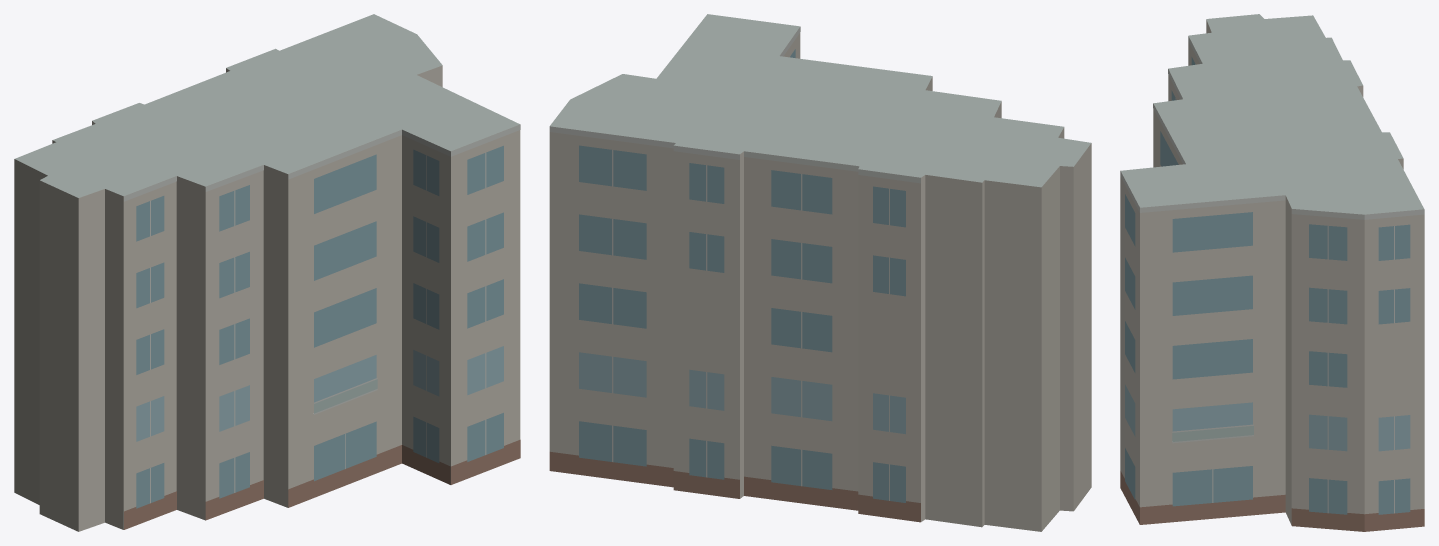
The model's file is survey-upis-32631726.glb.
3 renders of one model, left to right at view 1: azimuth 30°, elevation 25°; view 2: azimuth 150°, elevation 25°; view 3: azimuth 270°, elevation 25°, orthographic. The views are drawn at different scales.
Parts seen in each view (by area): view 1: survey-upis-32631726.tmp; view 2: survey-upis-32631726.tmp; view 3: survey-upis-32631726.tmp.
Boxes of the visible parts, left/top/right/bottom form: survey-upis-32631726.tmp: left=14, top=14, right=520, bottom=531; survey-upis-32631726.tmp: left=549, top=14, right=1091, bottom=531; survey-upis-32631726.tmp: left=1120, top=14, right=1424, bottom=531.
Size of the model in its own units: 20.08 by 14.8 by 12.86.
